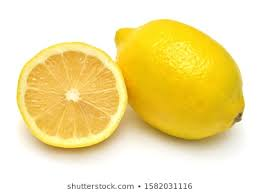lemon: (100, 13, 248, 143)
